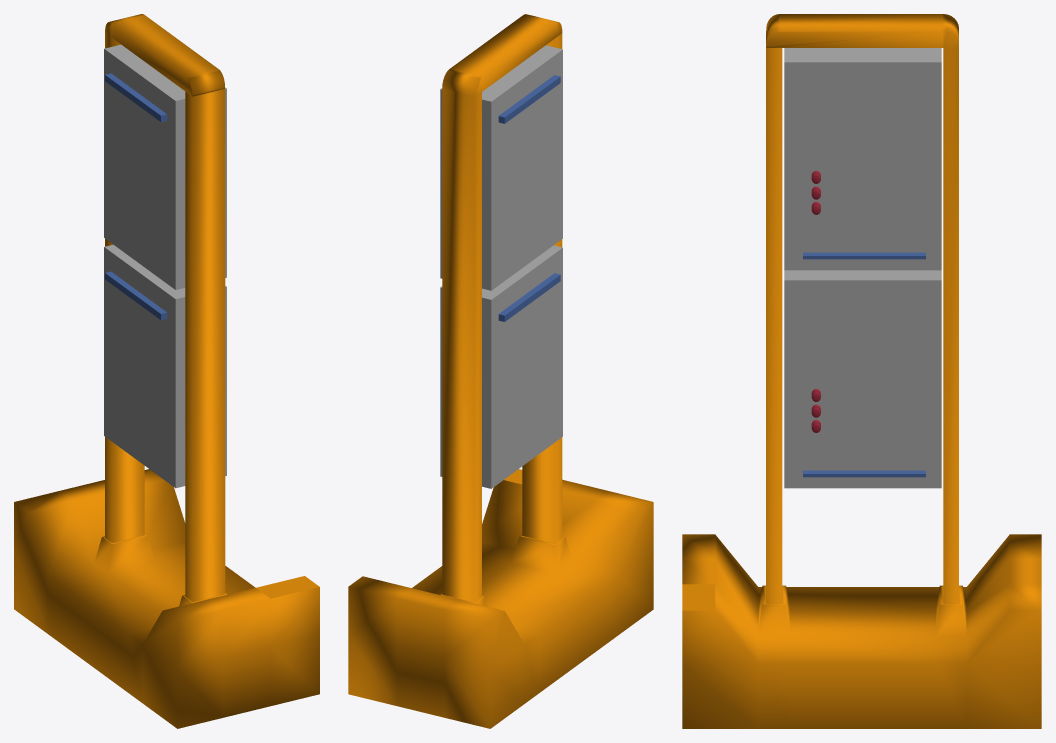
Rendered from RadiationDetectionPortal.fbx.
The picture shows the model from 3 angles, left to right: view 1: azimuth 30°, elevation 25°; view 2: azimuth 150°, elevation 25°; view 3: azimuth 270°, elevation 25°; orthographic projection. The views are drawn at different scales.
Visible parts, largest first — view 1: RadiationDetectionPortal; view 2: RadiationDetectionPortal; view 3: RadiationDetectionPortal.
Part boxes in pixels (box(x1,y1,x2,y2)): RadiationDetectionPortal: box(14, 14, 319, 728); RadiationDetectionPortal: box(348, 14, 653, 728); RadiationDetectionPortal: box(682, 14, 1041, 728).
Size of the model in its own units: 142 by 577 by 282.
